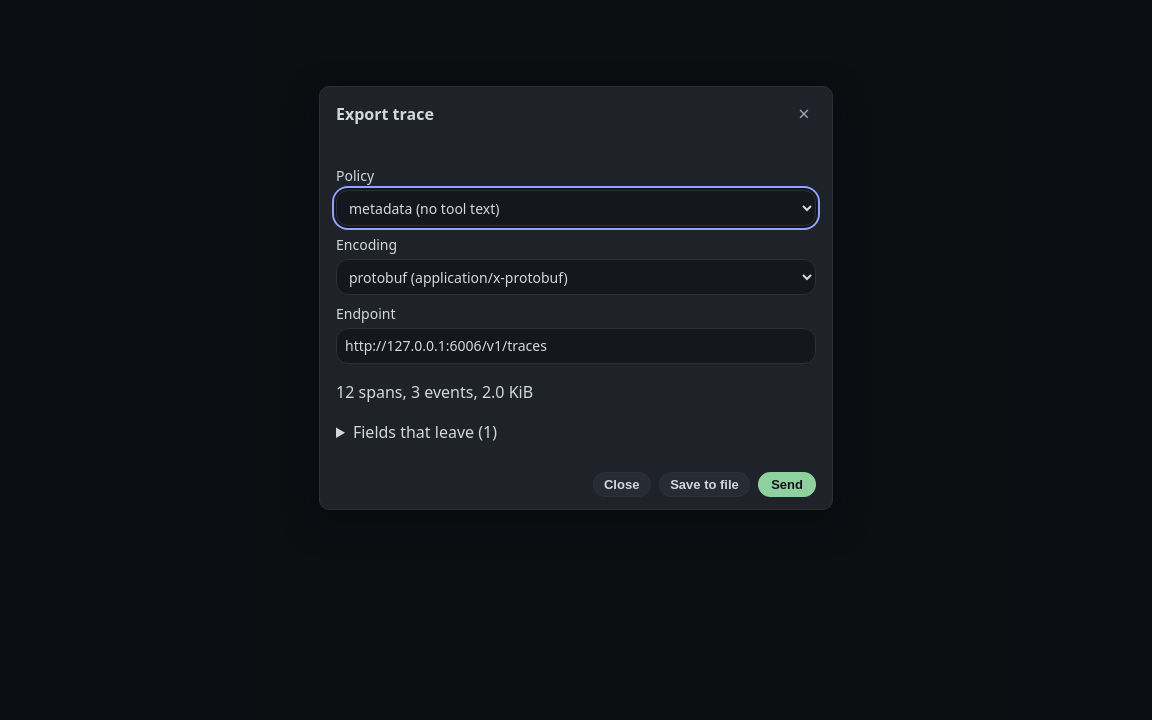
ExportDialog › Enter in the endpoint field rebuilds the preview and never sends
Expected: the text "12 spans, 3 events, 2.0 KiB" is shown, [336,381,533,403]
Replace the text in the field named "Export endpoint" with "http://localhost:4318/v1/traces" at (576, 346), box [336,328,816,364]
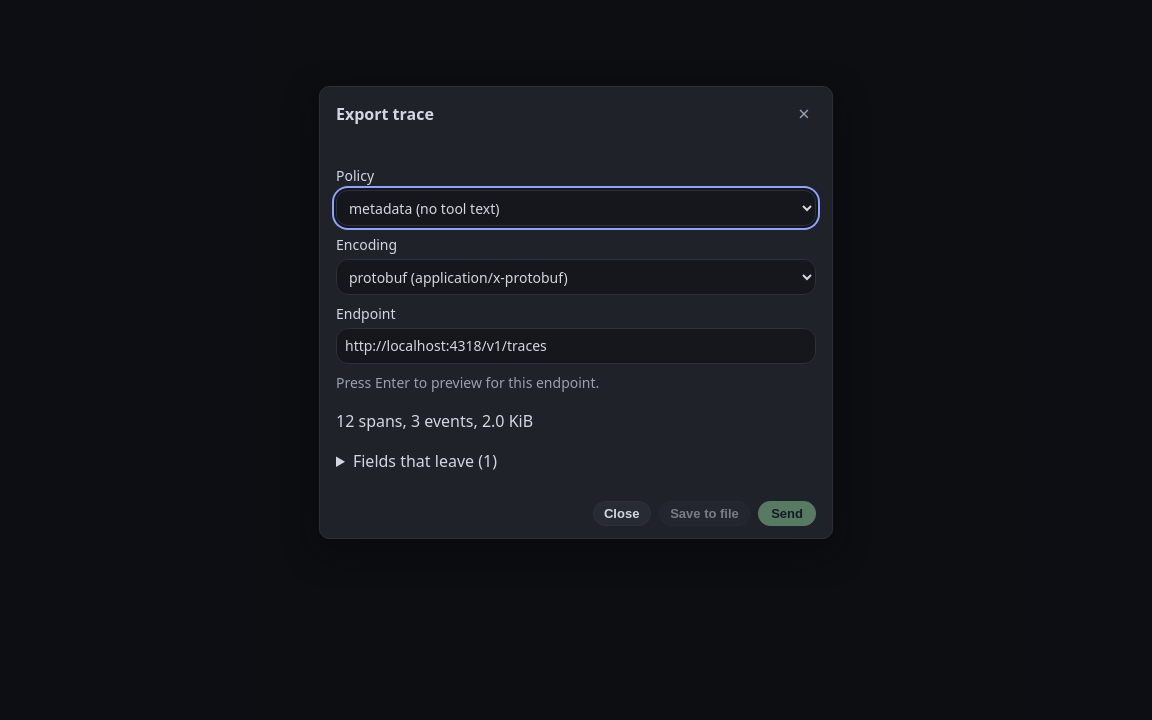
Expected: the button "Send" is disabled, [758,501,816,526]
Press Enter in the field named "Export endpoint", box [336,328,816,364]
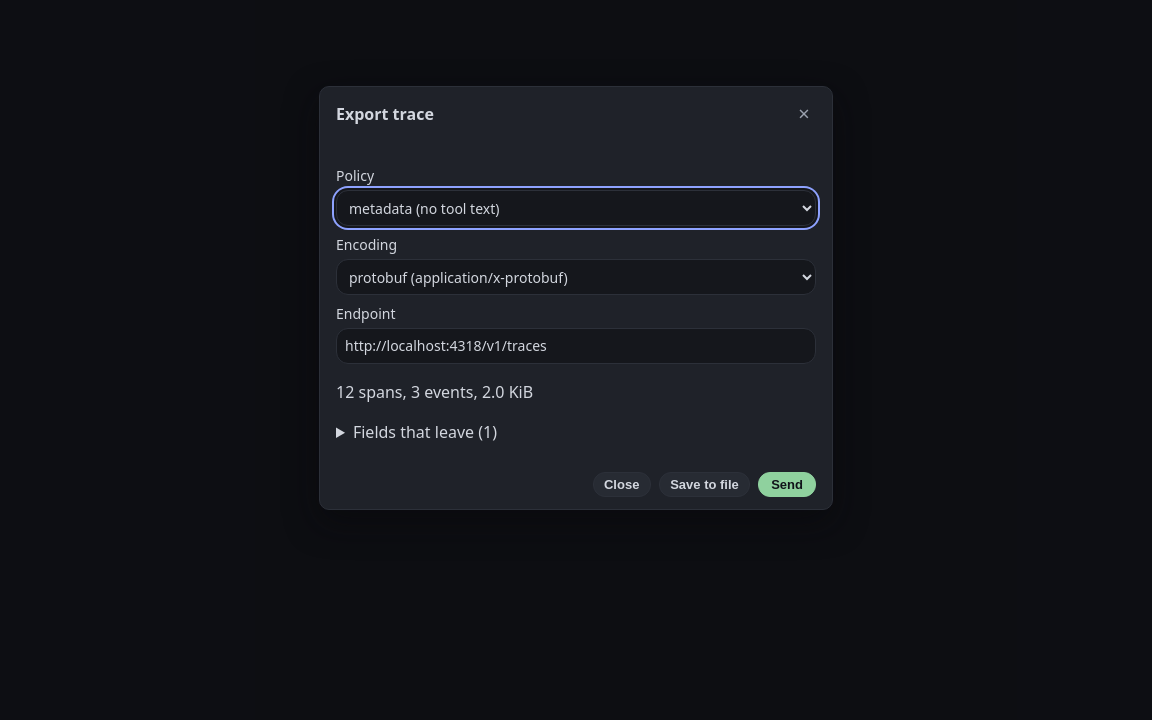
Expected: the button "Send" is enabled, [758,472,816,497]
